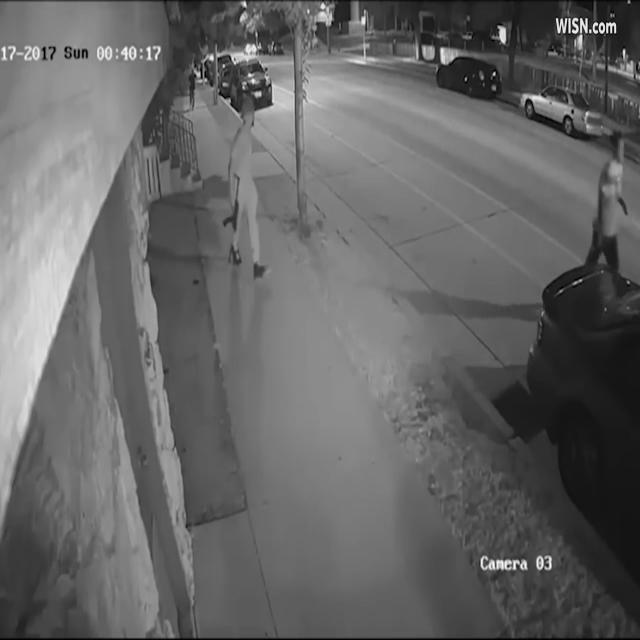Weapon: (221, 164, 265, 284)
